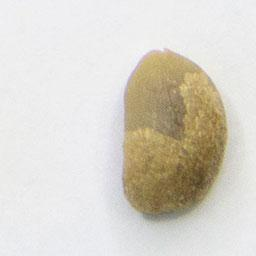longberry: (118, 41, 232, 219)
